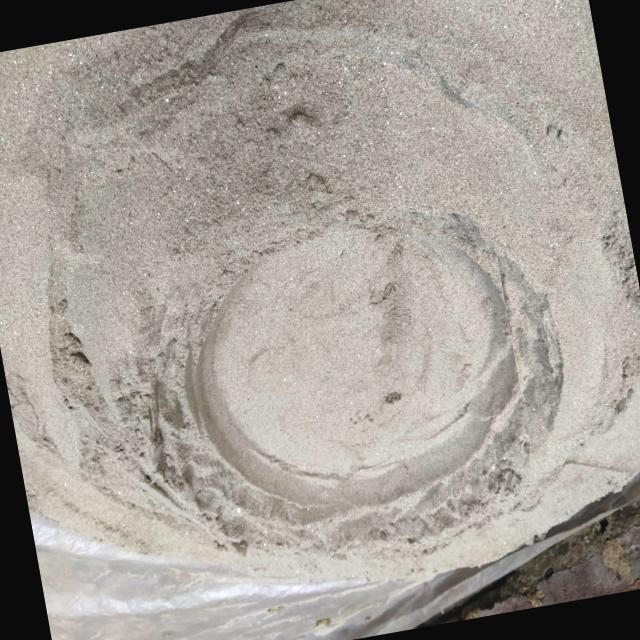C40: (193, 228, 517, 520)
